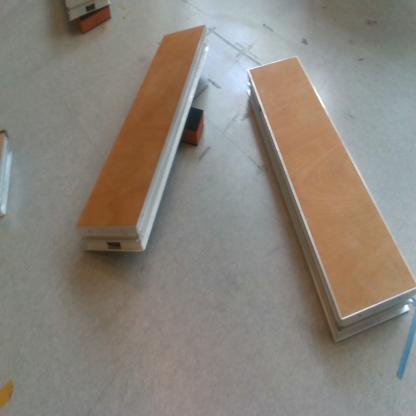Stairs: (247, 60, 416, 345), (78, 26, 210, 256), (1, 131, 14, 222), (66, 1, 110, 20)
